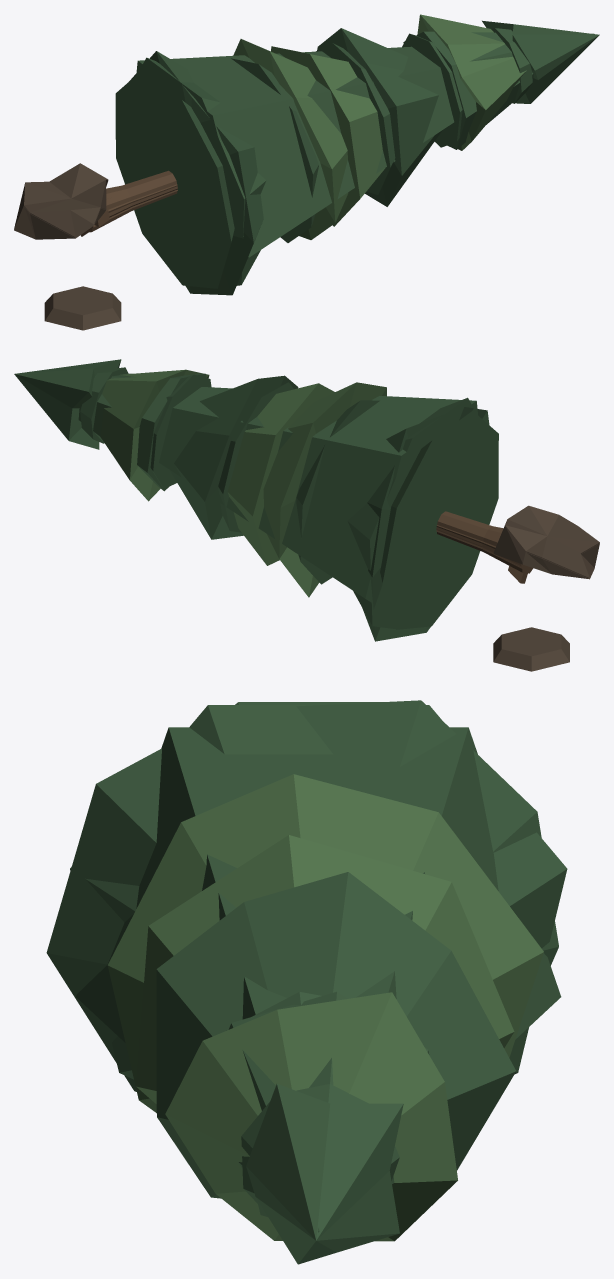
The model's file is neutral_tree_pine_fallen.glb.
The picture shows the model from 3 angles, top to bottom: view 1: azimuth 30°, elevation 25°; view 2: azimuth 150°, elevation 25°; view 3: azimuth 270°, elevation 25°; orthographic projection. The views are drawn at different scales.
Parts seen in each view (by area): view 1: foliage (×3), root_plate (×2), trunk (×2); view 2: foliage (×3), root_plate (×2), trunk (×2); view 3: foliage (×3).
Boxes of the visible parts, <box> form: foliage (×3): <box>115,14,599,295</box>; root_plate (×2): <box>14,163,121,330</box>; trunk (×2): <box>80,170,177,236</box>; foliage (×3): <box>14,359,498,641</box>; root_plate (×2): <box>493,505,599,671</box>; trunk (×2): <box>436,511,533,583</box>; foliage (×3): <box>46,700,567,1264</box>.
Size of the model in its own units: 13.64 by 5.12 by 5.31.
